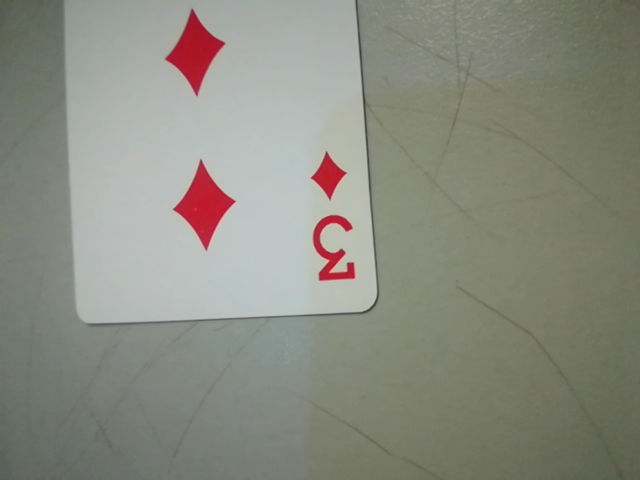fk 3: (298, 137, 368, 299)
